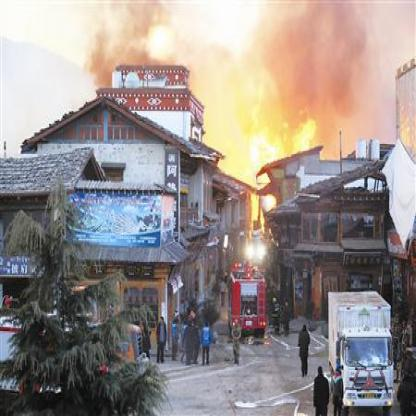fire: (242, 89, 312, 201)
